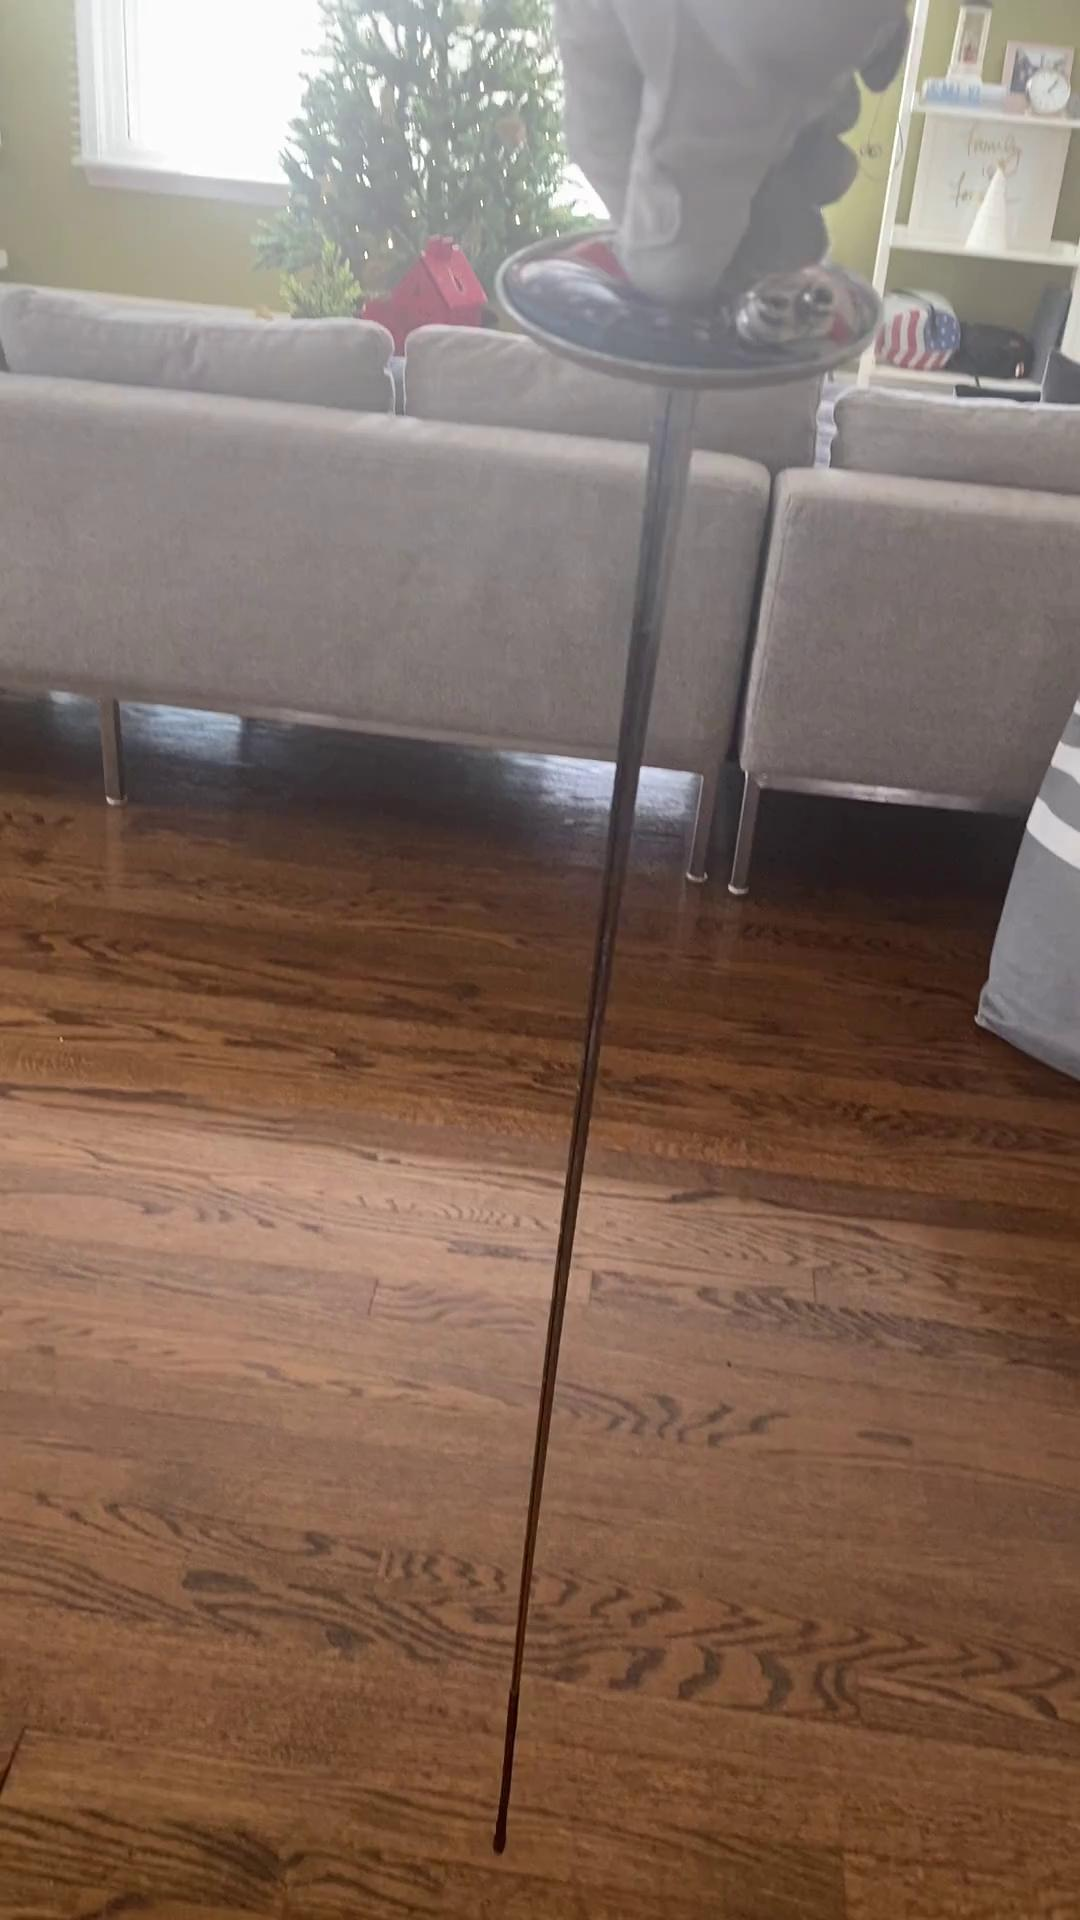blade-guard: (487, 214, 895, 415)
blade-tip: (476, 1665, 545, 1876)
fencing-blade: (462, 174, 901, 1886)
